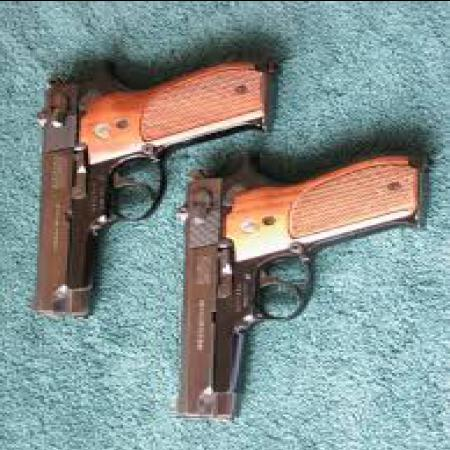Pistol: (171, 144, 426, 424), (26, 55, 280, 322)
